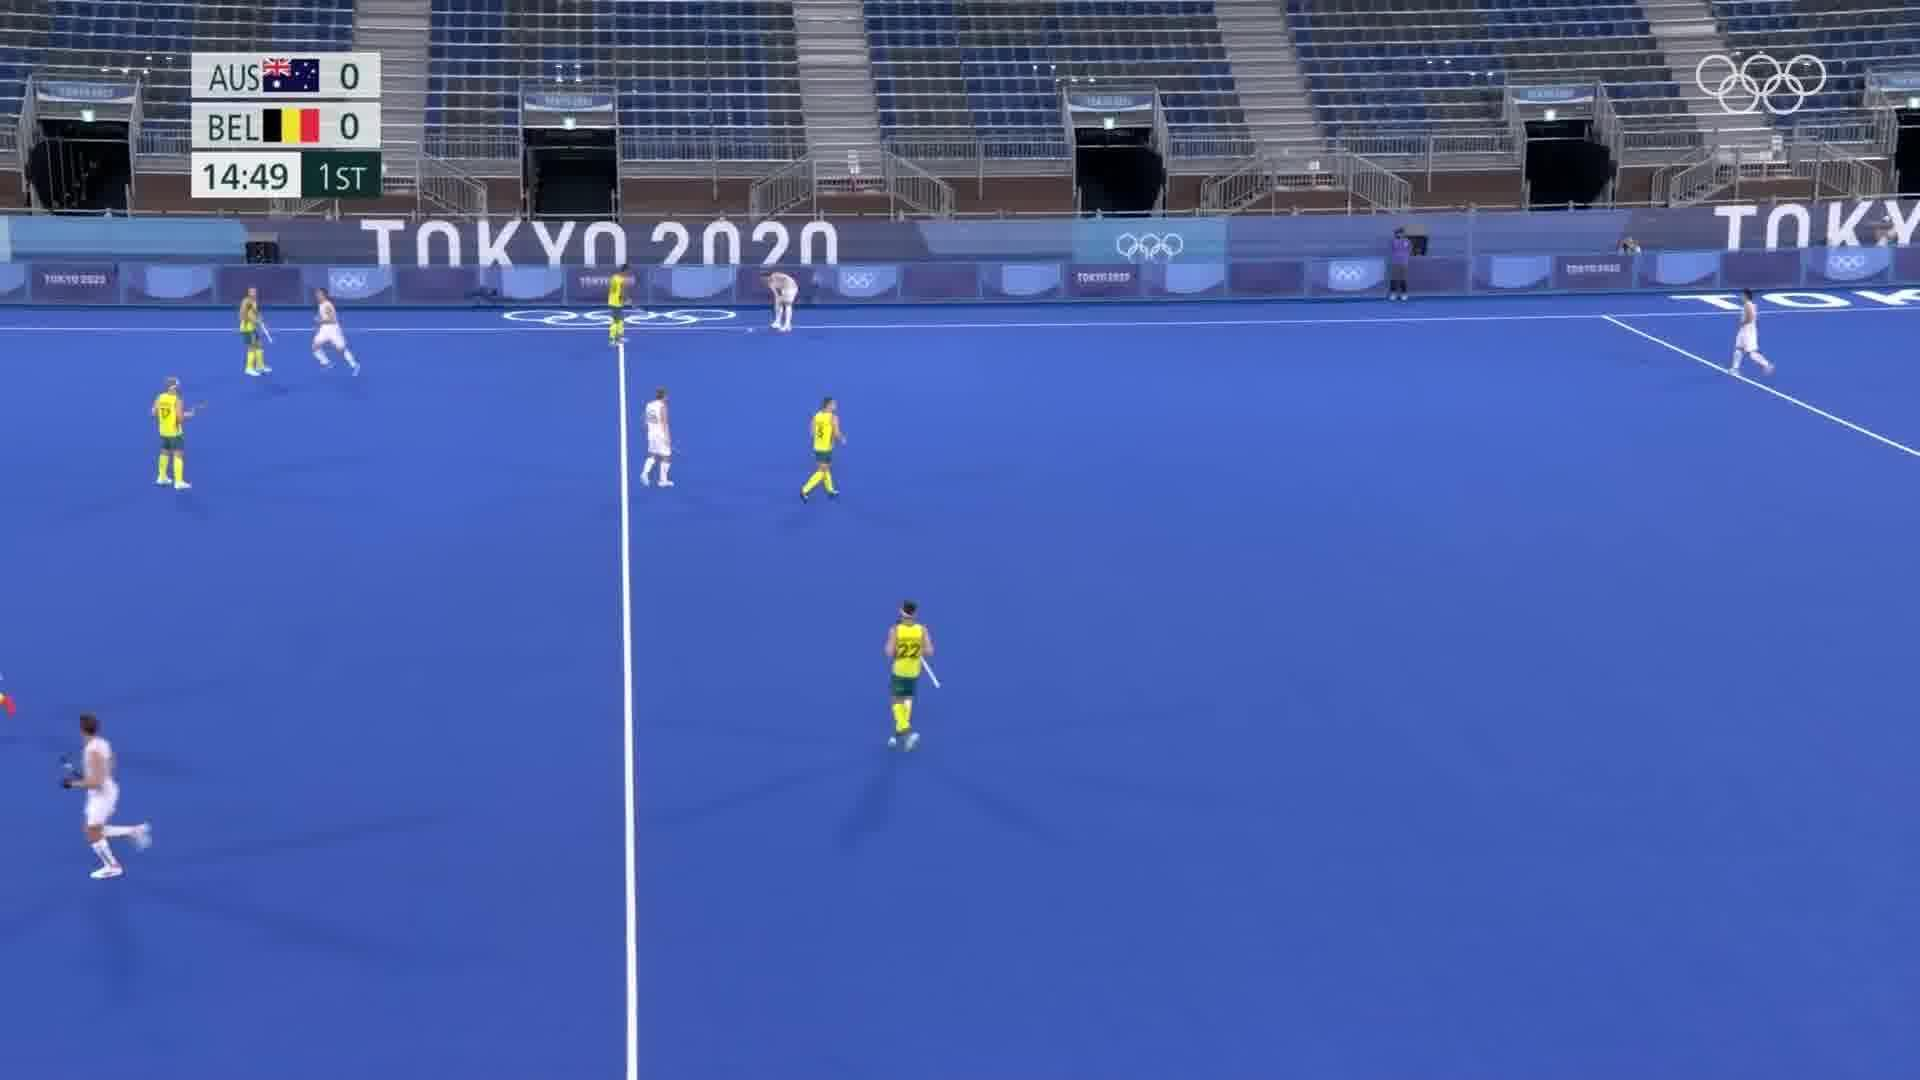ball: (740, 324, 757, 339)
